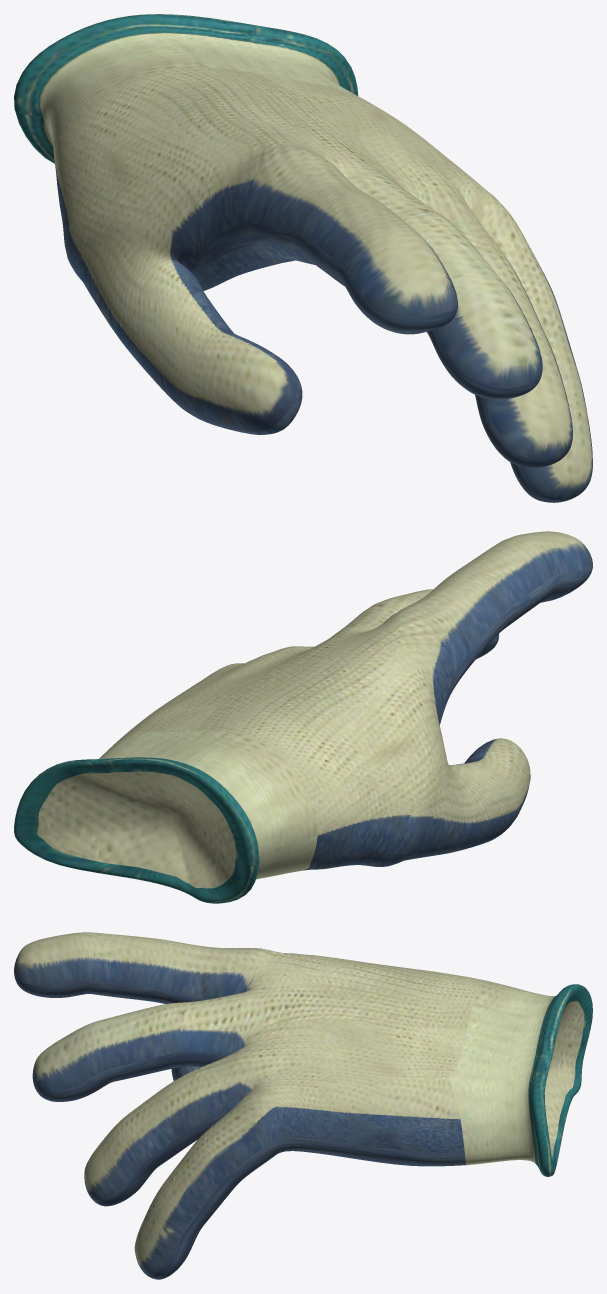
Rendered from gardenGlove.fbx.
The picture shows the model from 3 angles, top to bottom: view 1: azimuth 30°, elevation 25°; view 2: azimuth 150°, elevation 25°; view 3: azimuth 270°, elevation 25°; orthographic projection. The views are drawn at different scales.
Visible parts, largest first — view 1: gardeningGlove; view 2: gardeningGlove; view 3: gardeningGlove.
Part boxes in pixels (bbox=[...]): gardeningGlove: bbox=[14, 14, 592, 502]; gardeningGlove: bbox=[14, 531, 592, 903]; gardeningGlove: bbox=[14, 932, 592, 1279].
Size of the model in its own units: 9.18 by 8.05 by 16.19.
1 material, 1 textured.
